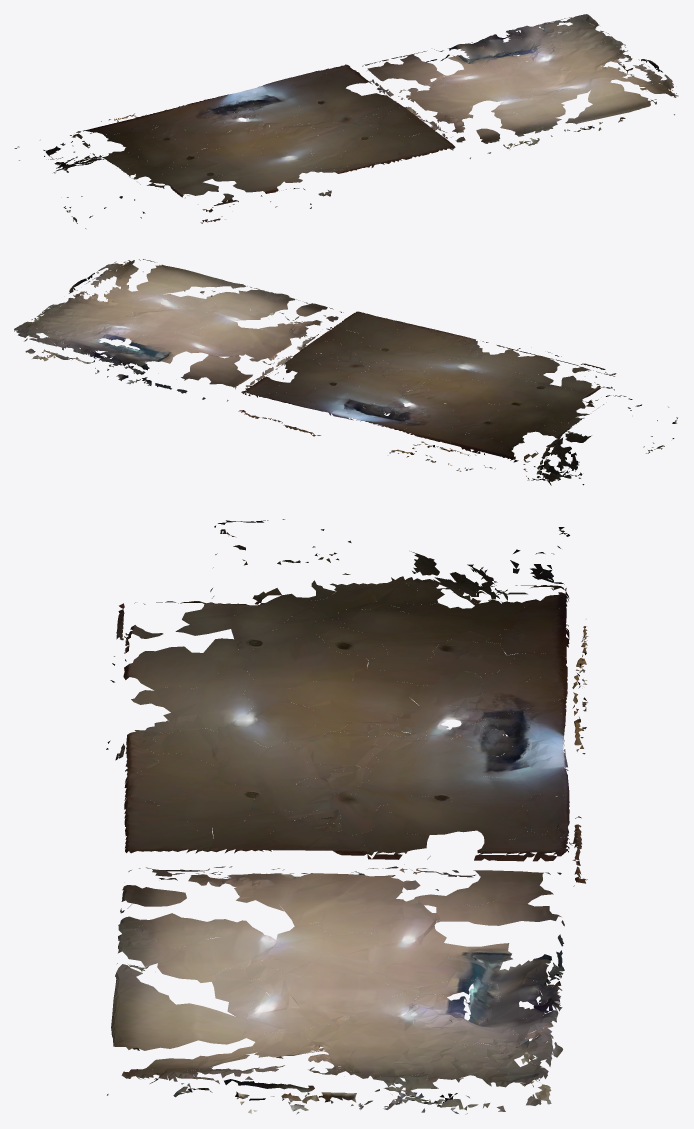
The model's file is esc_sotanos_techo_07.glb.
3 renders of one model, top to bottom at view 1: azimuth 30°, elevation 25°; view 2: azimuth 150°, elevation 25°; view 3: azimuth 270°, elevation 25°, orthographic. The views are drawn at different scales.
Parts seen in each view (by area): view 1: techo_Apartamento_y_bodega_7_GLTF_3, techo_Apartamento_y_bodega_7_GLTF_9, techo_Apartamento_y_bodega_7_GLTF_5, techo_Apartamento_y_bodega_7_GLTF_8, techo_Apartamento_y_bodega_7_GLTF_7, techo_Apartamento_y_bodega_7_GLTF_4, techo_Apartamento_y_bodega_7_GLTF_6, techo_Apartamento_y_bodega_7_GLTF, techo_Apartamento_y_bodega_7_GLTF_1, techo_Apartamento_y_bodega_7_GLTF_10, techo_Apartamento_y_bodega_7_GLTF_11, techo_Apartamento_y_bodega_7_GLTF_2; view 2: techo_Apartamento_y_bodega_7_GLTF_3, techo_Apartamento_y_bodega_7_GLTF_9, techo_Apartamento_y_bodega_7_GLTF_8, techo_Apartamento_y_bodega_7_GLTF_5, techo_Apartamento_y_bodega_7_GLTF_7, techo_Apartamento_y_bodega_7_GLTF_4, techo_Apartamento_y_bodega_7_GLTF_6, techo_Apartamento_y_bodega_7_GLTF_1, techo_Apartamento_y_bodega_7_GLTF, techo_Apartamento_y_bodega_7_GLTF_11, techo_Apartamento_y_bodega_7_GLTF_10, techo_Apartamento_y_bodega_7_GLTF_2; view 3: techo_Apartamento_y_bodega_7_GLTF_3, techo_Apartamento_y_bodega_7_GLTF_9, techo_Apartamento_y_bodega_7_GLTF_5, techo_Apartamento_y_bodega_7_GLTF_8, techo_Apartamento_y_bodega_7_GLTF_7, techo_Apartamento_y_bodega_7_GLTF_4, techo_Apartamento_y_bodega_7_GLTF_6, techo_Apartamento_y_bodega_7_GLTF, techo_Apartamento_y_bodega_7_GLTF_1, techo_Apartamento_y_bodega_7_GLTF_10, techo_Apartamento_y_bodega_7_GLTF_11, techo_Apartamento_y_bodega_7_GLTF_2.
Part boxes in pixels (x1,y1,x2,y2): techo_Apartamento_y_bodega_7_GLTF_3: (19, 17, 674, 228); techo_Apartamento_y_bodega_7_GLTF_9: (44, 55, 676, 221); techo_Apartamento_y_bodega_7_GLTF_5: (80, 62, 632, 193); techo_Apartamento_y_bodega_7_GLTF_8: (55, 18, 632, 216); techo_Apartamento_y_bodega_7_GLTF_7: (54, 31, 618, 173); techo_Apartamento_y_bodega_7_GLTF_4: (64, 23, 673, 223); techo_Apartamento_y_bodega_7_GLTF_6: (71, 39, 525, 223); techo_Apartamento_y_bodega_7_GLTF: (18, 30, 630, 218); techo_Apartamento_y_bodega_7_GLTF_1: (43, 22, 669, 212); techo_Apartamento_y_bodega_7_GLTF_10: (14, 25, 653, 222); techo_Apartamento_y_bodega_7_GLTF_11: (45, 14, 678, 211); techo_Apartamento_y_bodega_7_GLTF_2: (53, 32, 609, 172); techo_Apartamento_y_bodega_7_GLTF_3: (69, 265, 676, 485); techo_Apartamento_y_bodega_7_GLTF_9: (115, 261, 612, 472); techo_Apartamento_y_bodega_7_GLTF_8: (29, 259, 677, 479); techo_Apartamento_y_bodega_7_GLTF_5: (48, 274, 591, 455); techo_Apartamento_y_bodega_7_GLTF_7: (36, 290, 657, 476); techo_Apartamento_y_bodega_7_GLTF_4: (27, 261, 664, 462); techo_Apartamento_y_bodega_7_GLTF_6: (46, 299, 614, 479); techo_Apartamento_y_bodega_7_GLTF_1: (24, 265, 632, 479); techo_Apartamento_y_bodega_7_GLTF: (54, 272, 668, 475); techo_Apartamento_y_bodega_7_GLTF_11: (14, 260, 653, 481); techo_Apartamento_y_bodega_7_GLTF_10: (51, 294, 664, 480); techo_Apartamento_y_bodega_7_GLTF_2: (27, 268, 427, 399); techo_Apartamento_y_bodega_7_GLTF_3: (107, 532, 563, 1102); techo_Apartamento_y_bodega_7_GLTF_9: (118, 527, 583, 1079); techo_Apartamento_y_bodega_7_GLTF_5: (123, 551, 585, 1110); techo_Apartamento_y_bodega_7_GLTF_8: (117, 519, 552, 1109); techo_Apartamento_y_bodega_7_GLTF_7: (135, 560, 586, 1098); techo_Apartamento_y_bodega_7_GLTF_4: (117, 561, 569, 1083); techo_Apartamento_y_bodega_7_GLTF_6: (116, 577, 567, 1112); techo_Apartamento_y_bodega_7_GLTF: (106, 525, 585, 1097); techo_Apartamento_y_bodega_7_GLTF_1: (112, 553, 586, 1111); techo_Apartamento_y_bodega_7_GLTF_10: (115, 529, 587, 1104); techo_Apartamento_y_bodega_7_GLTF_11: (121, 529, 588, 1114); techo_Apartamento_y_bodega_7_GLTF_2: (152, 590, 569, 1107).
Bounding box in the file's own units: 17.59 × 0.7469 × 6.35.
Materials: 12 (12 with a texture image).
